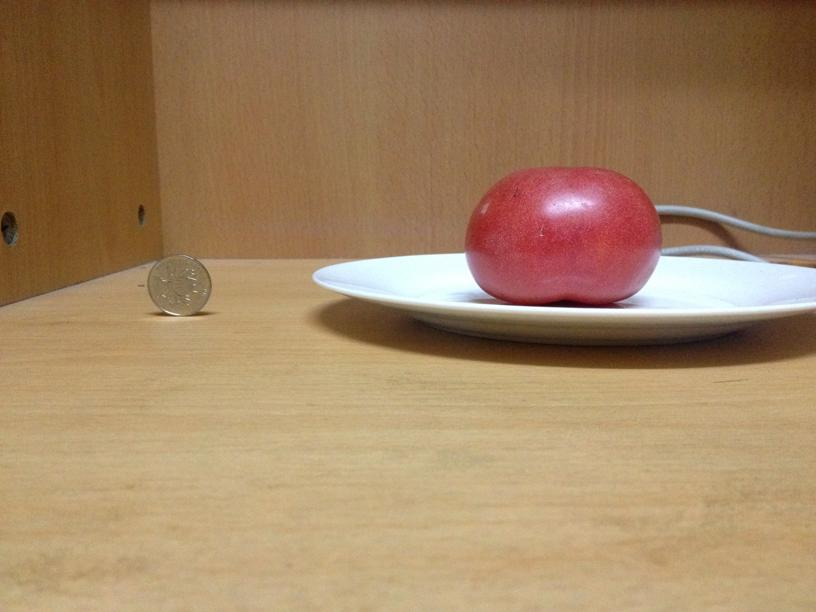coin: (145, 252, 212, 317)
tomato: (455, 165, 665, 308)
